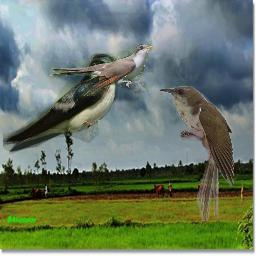Cuckoo: (159, 85, 234, 221), (50, 44, 152, 96)
Swallow: (3, 53, 118, 154)
